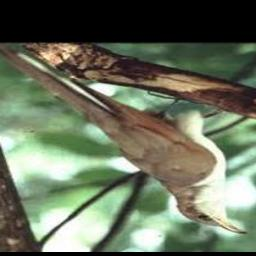Cuckoo: (0, 42, 246, 234)
